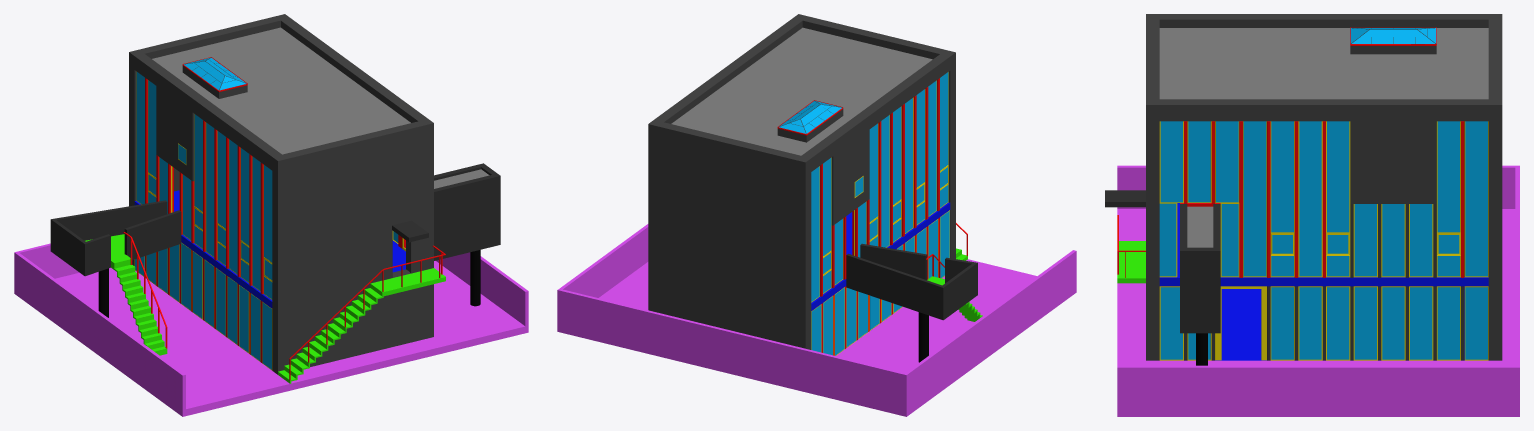
Rendered from zhanguan.FBX.
3 views of the same model, side by side, from view 1: azimuth 30°, elevation 25°; view 2: azimuth 150°, elevation 25°; view 3: azimuth 270°, elevation 25° (orthographic). The views are drawn at different scales.
Visible parts, largest first — view 1: ground_01, ceiling_09, wall_27, wall_21, wall_03, wall_26, wall_19, wall_07, detail_10, wall_28, detail_16, wall_04 (+38 smaller); view 2: wall_02, ceiling_09, wall_29, wall_31, wall_03, ground_01, wall_32, wall_06, wall_07, wall_30, detail_16, wall_20 (+28 smaller); view 3: ceiling_09, wall_20, wall_08, ground_01, wall_22, wall_07, glass_38, glass_28, glass_42, wall_18, detail_04, ceiling_05 (+49 smaller).
Part boxes in pixels (x1=…): ground_01: x1=55, y1=261, x2=525, y2=415; ceiling_09: x1=152, y1=27, x2=410, y2=154; wall_27: x1=272, y1=137, x2=433, y2=243; wall_21: x1=272, y1=206, x2=433, y2=312; wall_03: x1=14, y1=252, x2=185, y2=416; wall_26: x1=272, y1=284, x2=433, y2=374; wall_19: x1=434, y1=175, x2=500, y2=260; wall_07: x1=134, y1=54, x2=281, y2=170; detail_10: x1=278, y1=268, x2=445, y2=383; wall_28: x1=272, y1=119, x2=433, y2=174; detail_16: x1=203, y1=120, x2=263, y2=294; wall_04: x1=156, y1=86, x2=194, y2=181; wall_02: x1=557, y1=289, x2=906, y2=416; ceiling_09: x1=671, y1=27, x2=932, y2=155; wall_29: x1=648, y1=138, x2=811, y2=245; wall_31: x1=648, y1=207, x2=811, y2=315; wall_03: x1=905, y1=250, x2=1076, y2=416; ground_01: x1=598, y1=259, x2=1036, y2=372; wall_32: x1=648, y1=277, x2=811, y2=349; wall_06: x1=846, y1=253, x2=943, y2=319; wall_07: x1=801, y1=54, x2=950, y2=171; wall_30: x1=648, y1=120, x2=811, y2=176; detail_16: x1=878, y1=78, x2=939, y2=246; wall_20: x1=558, y1=224, x2=648, y2=297; ceiling_09: x1=1159, y1=28, x2=1488, y2=99; wall_20: x1=1117, y1=365, x2=1519, y2=416; wall_08: x1=1159, y1=99, x2=1488, y2=121; ground_01: x1=1117, y1=209, x2=1515, y2=365; wall_22: x1=1350, y1=121, x2=1436, y2=203; wall_07: x1=1159, y1=14, x2=1488, y2=27; glass_38: x1=1243, y1=121, x2=1266, y2=276; glass_28: x1=1465, y1=121, x2=1487, y2=276; glass_42: x1=1299, y1=121, x2=1321, y2=276; wall_18: x1=1180, y1=247, x2=1220, y2=333; detail_04: x1=1180, y1=121, x2=1325, y2=277; ceiling_05: x1=1159, y1=203, x2=1488, y2=286.
Size of the model in its own units: 620 by 391 by 538.
